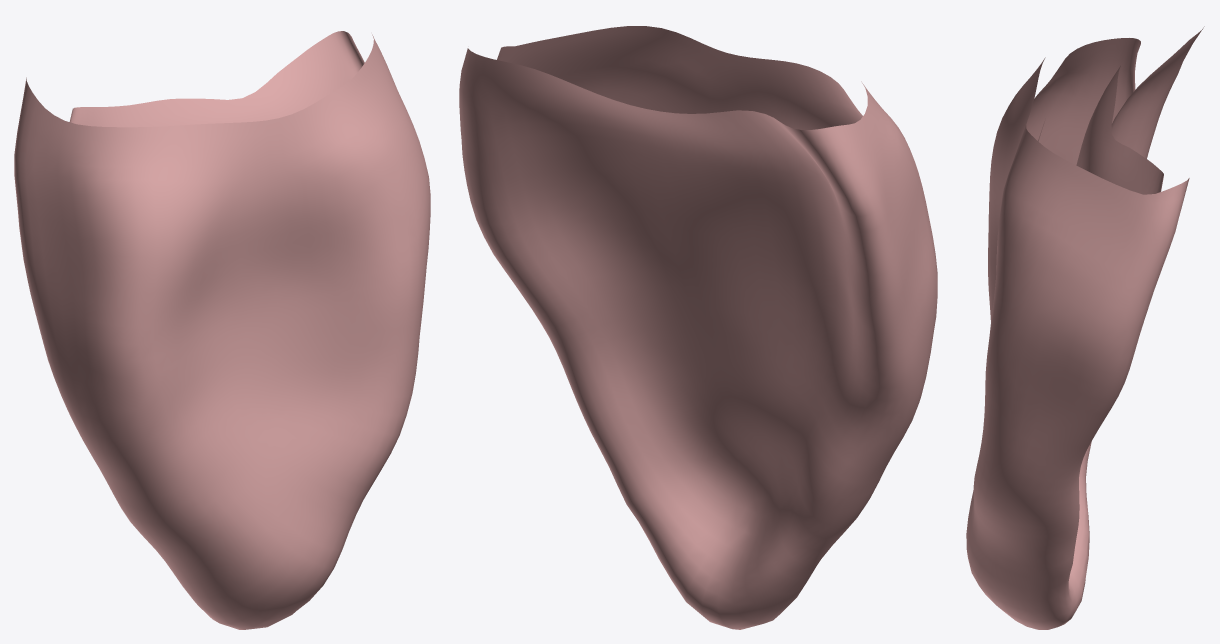
File: frau2-431.glb
3 renders of one model, left to right at view 1: azimuth 30°, elevation 25°; view 2: azimuth 150°, elevation 25°; view 3: azimuth 270°, elevation 25°, orthographic. The views are drawn at different scales.
Parts seen in each view (by area): view 1: VH_F_vagina; view 2: VH_F_vagina; view 3: VH_F_vagina.
Boxes of the visible parts, x1,y1,x2,y2 form: VH_F_vagina: (14, 31, 430, 629); VH_F_vagina: (459, 26, 937, 629); VH_F_vagina: (966, 26, 1204, 629).
Size of the model in its own units: 0.0445 by 0.0585 by 0.0237.
